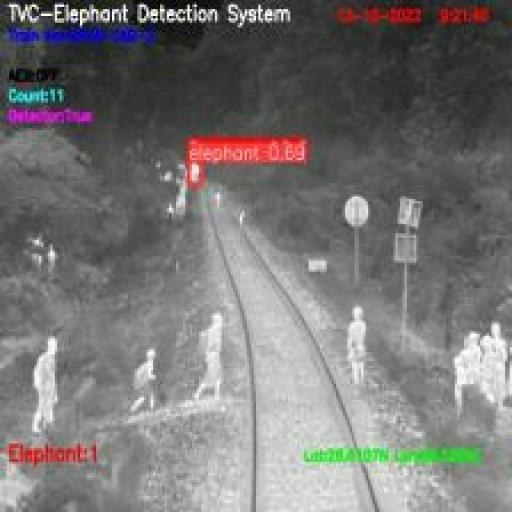Elephant: (190, 162, 202, 185)
